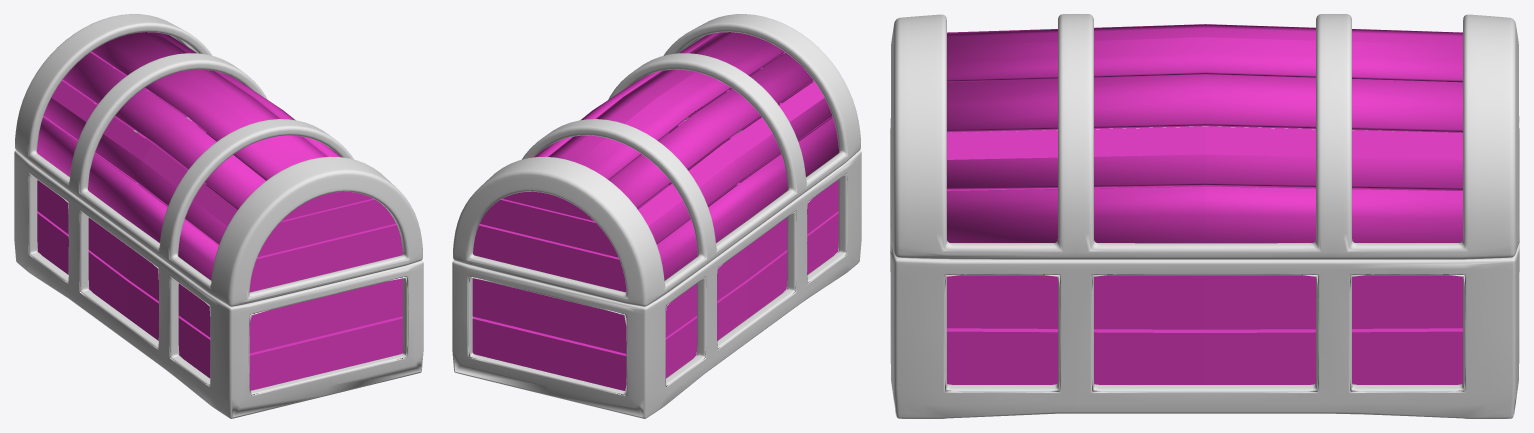
Rendered from Coffre Arthur Mieux.fbx.
The picture shows the model from 3 angles, left to right: view 1: azimuth 30°, elevation 25°; view 2: azimuth 150°, elevation 25°; view 3: azimuth 270°, elevation 25°; orthographic projection. The views are drawn at different scales.
Visible parts, largest first — view 1: Bois (haut), Métal (haut), Métal (bas), Bois (bas); view 2: Bois (haut), Métal (haut), Métal (bas), Bois (bas); view 3: Bois (haut), Métal (haut), Métal (bas), Bois (bas).
Boxes of the visible parts, left/top/right/bottom form: Bois (haut): left=37, top=32, right=402, bottom=292; Métal (haut): left=15, top=14, right=422, bottom=306; Métal (bas): left=14, top=117, right=423, bottom=418; Bois (bas): left=37, top=120, right=402, bottom=390; Bois (haut): left=473, top=32, right=838, bottom=292; Métal (haut): left=453, top=14, right=860, bottom=306; Métal (bas): left=452, top=117, right=861, bottom=418; Bois (bas): left=472, top=120, right=838, bottom=390; Bois (haut): left=947, top=24, right=1462, bottom=243; Métal (haut): left=890, top=14, right=1519, bottom=259; Métal (bas): left=890, top=126, right=1519, bottom=418; Bois (bas): left=947, top=186, right=1462, bottom=384.
Size of the model in its own units: 220 by 238 by 419.
